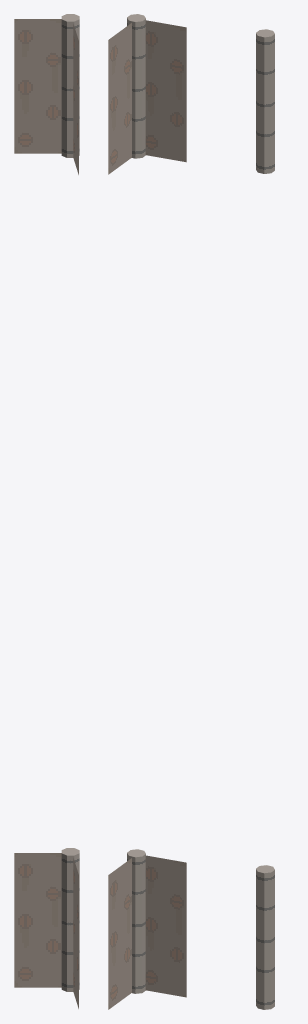
File: kd_stage_135ded_4_91_bounded.glb
3 renders of one model, left to right at view 1: azimuth 90°, elevation 25°; view 2: azimuth 150°, elevation 25°; view 3: azimuth 330°, elevation 25°, orthographic.
Visible parts, largest first — view 1: kd_stage_135ded_4_91_bounded; view 2: kd_stage_135ded_4_91_bounded; view 3: kd_stage_135ded_4_91_bounded.
Boxes of the visible parts, x1,y1,x2,y2 form: kd_stage_135ded_4_91_bounded: [14, 14, 79, 1008]; kd_stage_135ded_4_91_bounded: [108, 14, 186, 1009]; kd_stage_135ded_4_91_bounded: [256, 29, 274, 1009].
Size of the model in its own units: 0.0638 by 1.11 by 0.0673.
1 material, 1 textured.
